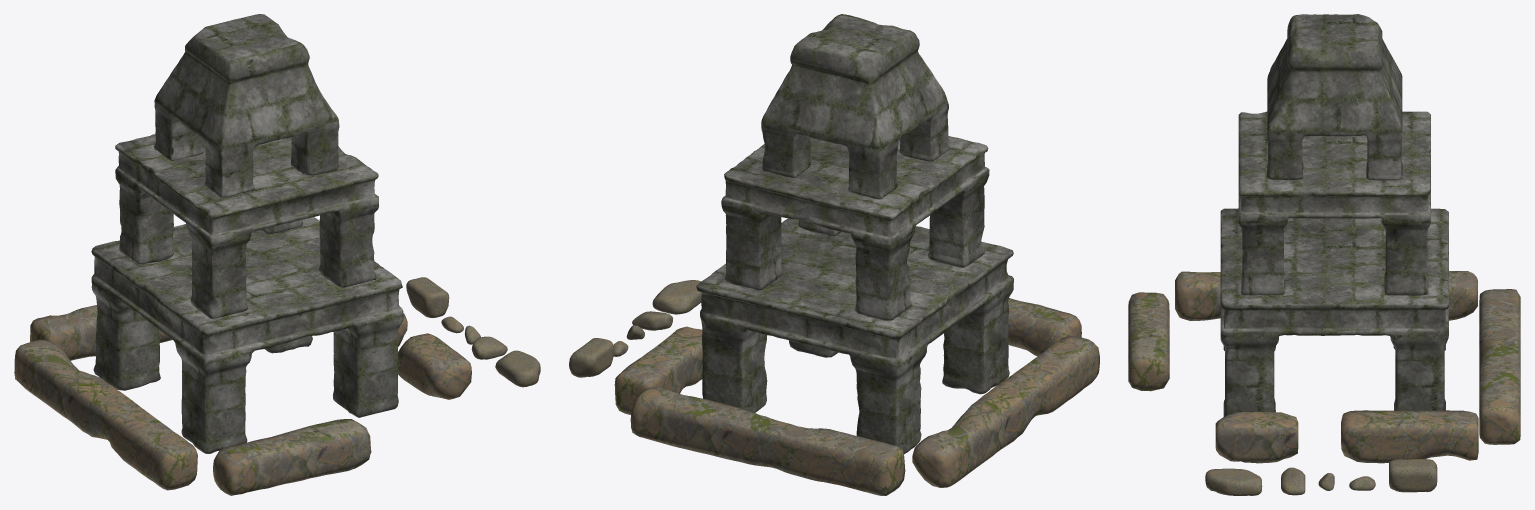
Rendered from old_ruined_temple.glb.
The picture shows the model from 3 angles, left to right: view 1: azimuth 30°, elevation 25°; view 2: azimuth 150°, elevation 25°; view 3: azimuth 270°, elevation 25°; orthographic projection. The views are drawn at different scales.
Visible parts, largest first — view 1: g (×3); view 2: g (×3); view 3: g (×3).
Boxes of the visible parts, x1=… form: g (×3): x1=14, y1=14, x2=540, y2=495; g (×3): x1=569, y1=14, x2=1099, y2=495; g (×3): x1=1128, y1=14, x2=1520, y2=495.
Bounding box in the file's own units: 2 × 1.7 × 1.71.
Materials: 3 (3 with a texture image).
